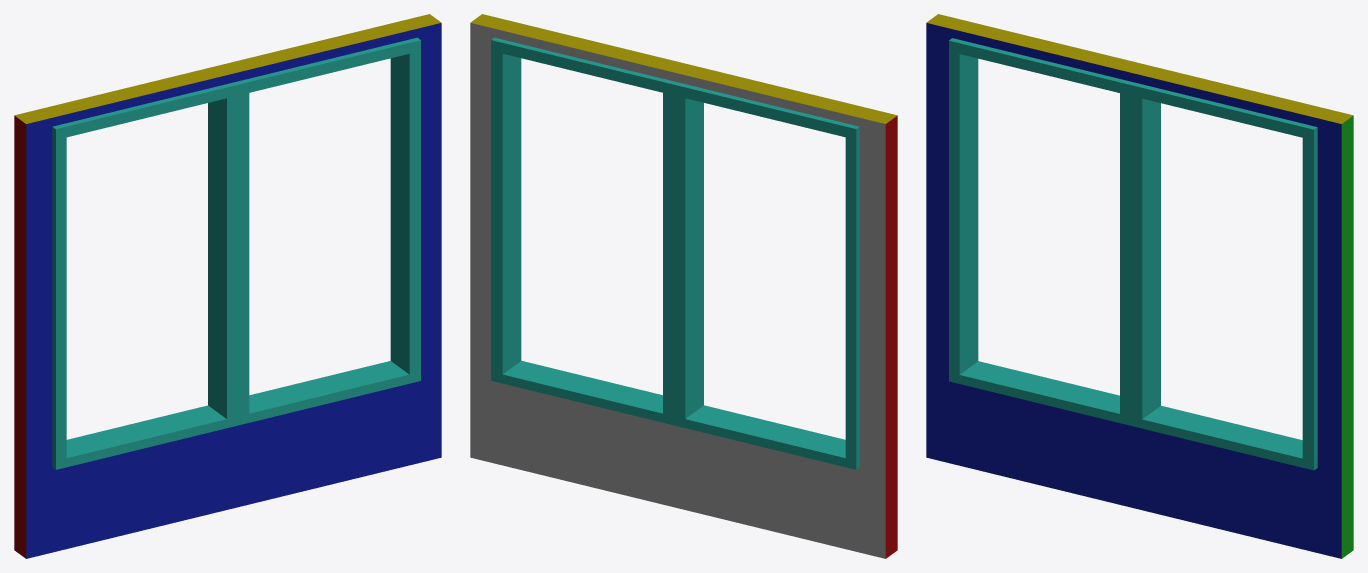
File: Wall_Window_06b.fbx
The picture shows the model from 3 angles, left to right: view 1: azimuth 30°, elevation 25°; view 2: azimuth 150°, elevation 25°; view 3: azimuth 330°, elevation 25°; orthographic projection.
Visible parts, largest first — view 1: Wall_Window_06b; view 2: Wall_Window_06b; view 3: Wall_Window_06b.
Part boxes in pixels (<box>): Wall_Window_06b: <box>14,14,441,558</box>; Wall_Window_06b: <box>470,14,897,558</box>; Wall_Window_06b: <box>926,14,1353,558</box>.
Bounding box in the file's own units: 3 × 0.2358 × 3.
